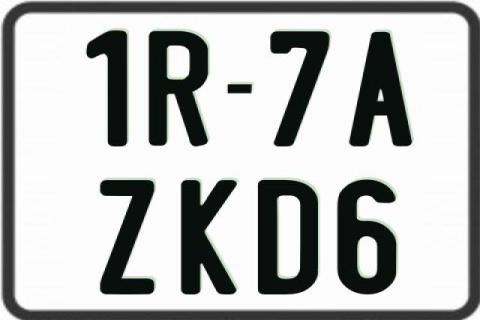0: (268, 30, 330, 146), (338, 178, 398, 294), (84, 29, 128, 147)
A: (346, 31, 410, 147)
D: (256, 178, 321, 296)
K: (180, 180, 236, 298)
R: (147, 29, 207, 150)
Z: (98, 180, 152, 298)
